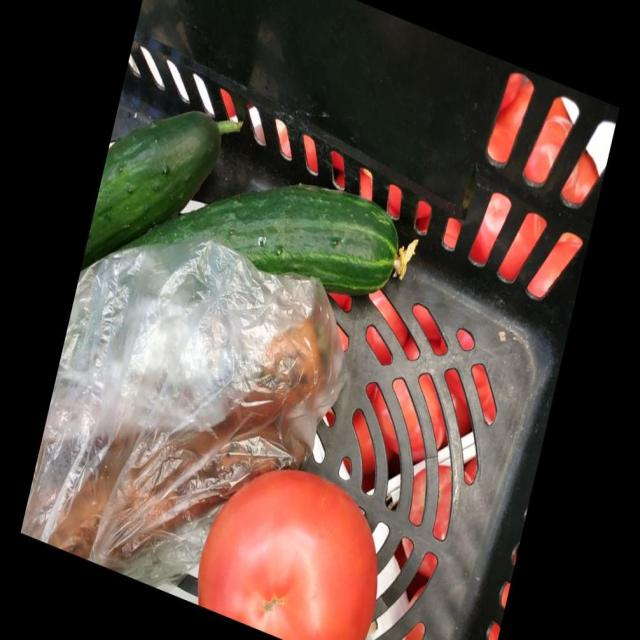Carrot: (49, 319, 322, 568)
Cucumber: (133, 183, 417, 294), (81, 110, 224, 269)
Tomatoes: (198, 469, 377, 640)
